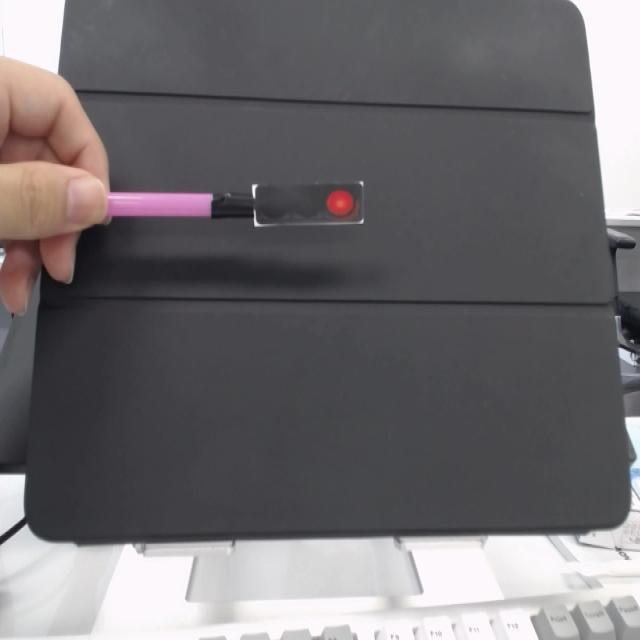traffic light: (248, 180, 370, 243)
